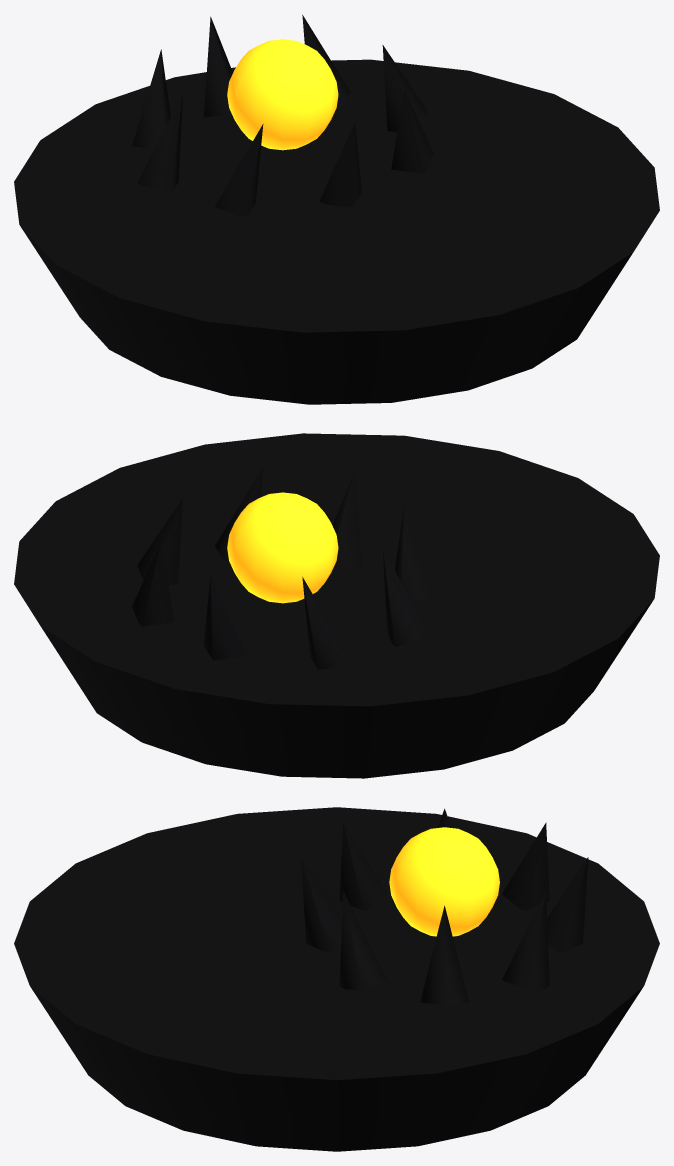
Rendered from ica_02.glb.
3 renders of one model, top to bottom at view 1: azimuth 30°, elevation 25°; view 2: azimuth 150°, elevation 25°; view 3: azimuth 270°, elevation 25°, orthographic.
Visible parts, largest first — view 1: scenario_tile_round_floor, icarus_lotus_petals, ICA_02; view 2: scenario_tile_round_floor, icarus_lotus_petals, ICA_02; view 3: scenario_tile_round_floor, icarus_lotus_petals, ICA_02.
Part boxes in pixels (box(x1,y1,x2,y2)): scenario_tile_round_floor: box(14, 59, 659, 404); icarus_lotus_petals: box(132, 14, 433, 216); ICA_02: box(227, 39, 338, 150); scenario_tile_round_floor: box(14, 433, 659, 778); icarus_lotus_petals: box(132, 468, 433, 669); ICA_02: box(227, 492, 338, 603); scenario_tile_round_floor: box(14, 807, 659, 1151); icarus_lotus_petals: box(301, 808, 588, 1005); ICA_02: box(389, 827, 499, 936).
Size of the model in its own units: 21 by 7.5 by 21.
